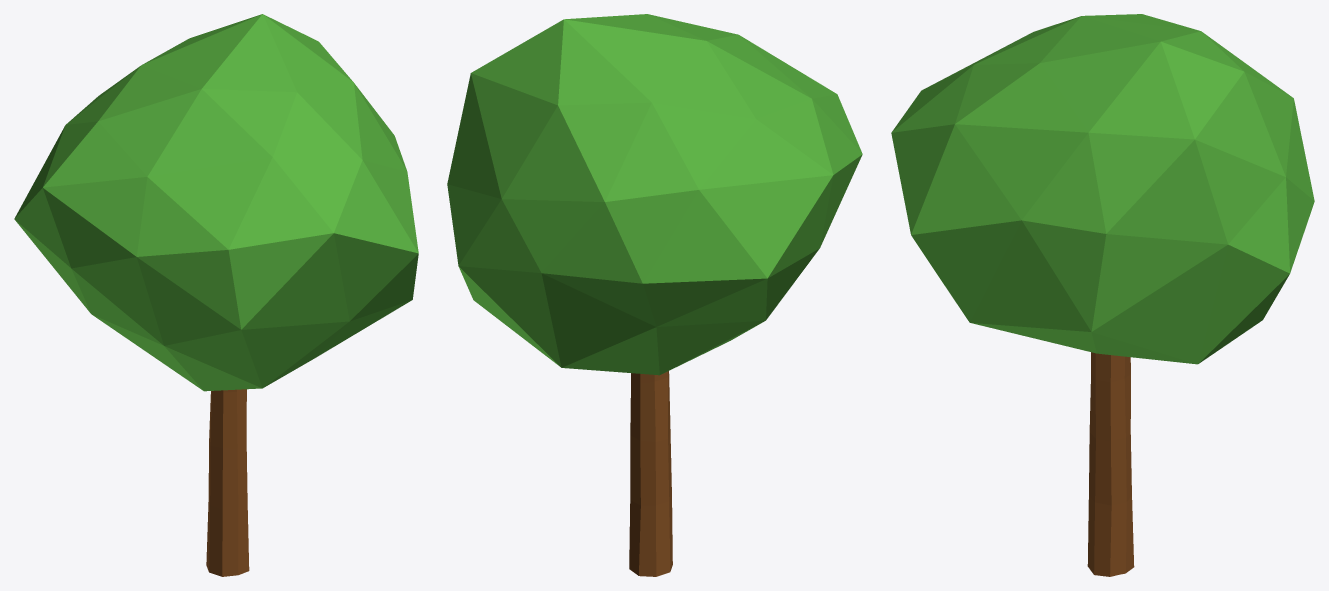
File: tree7.fbx
The picture shows the model from 3 angles, left to right: view 1: azimuth 30°, elevation 25°; view 2: azimuth 150°, elevation 25°; view 3: azimuth 270°, elevation 25°; orthographic projection. The views are drawn at different scales.
Visible parts, largest first — view 1: tree.007; view 2: tree.007; view 3: tree.007.
Boxes of the visible parts, left/top/right/bottom form: tree.007: left=14, top=14, right=418, bottom=576; tree.007: left=447, top=14, right=862, bottom=576; tree.007: left=891, top=14, right=1314, bottom=576.
Bounding box in the file's own units: 2207 × 2171 × 3150.
